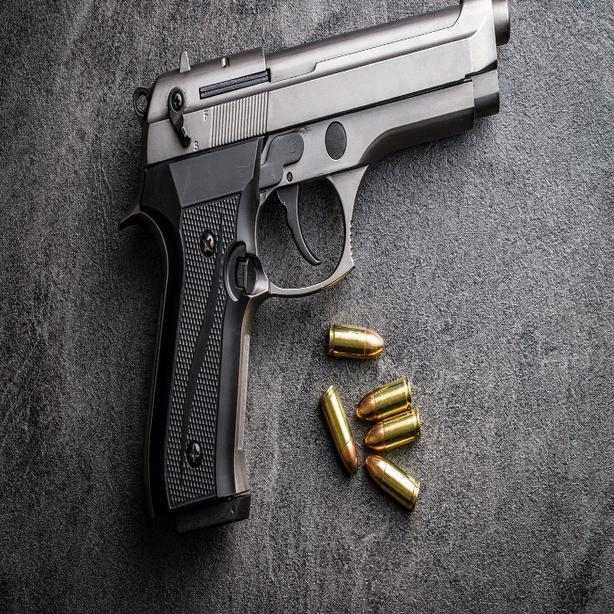Firearm: (114, 0, 516, 545)
